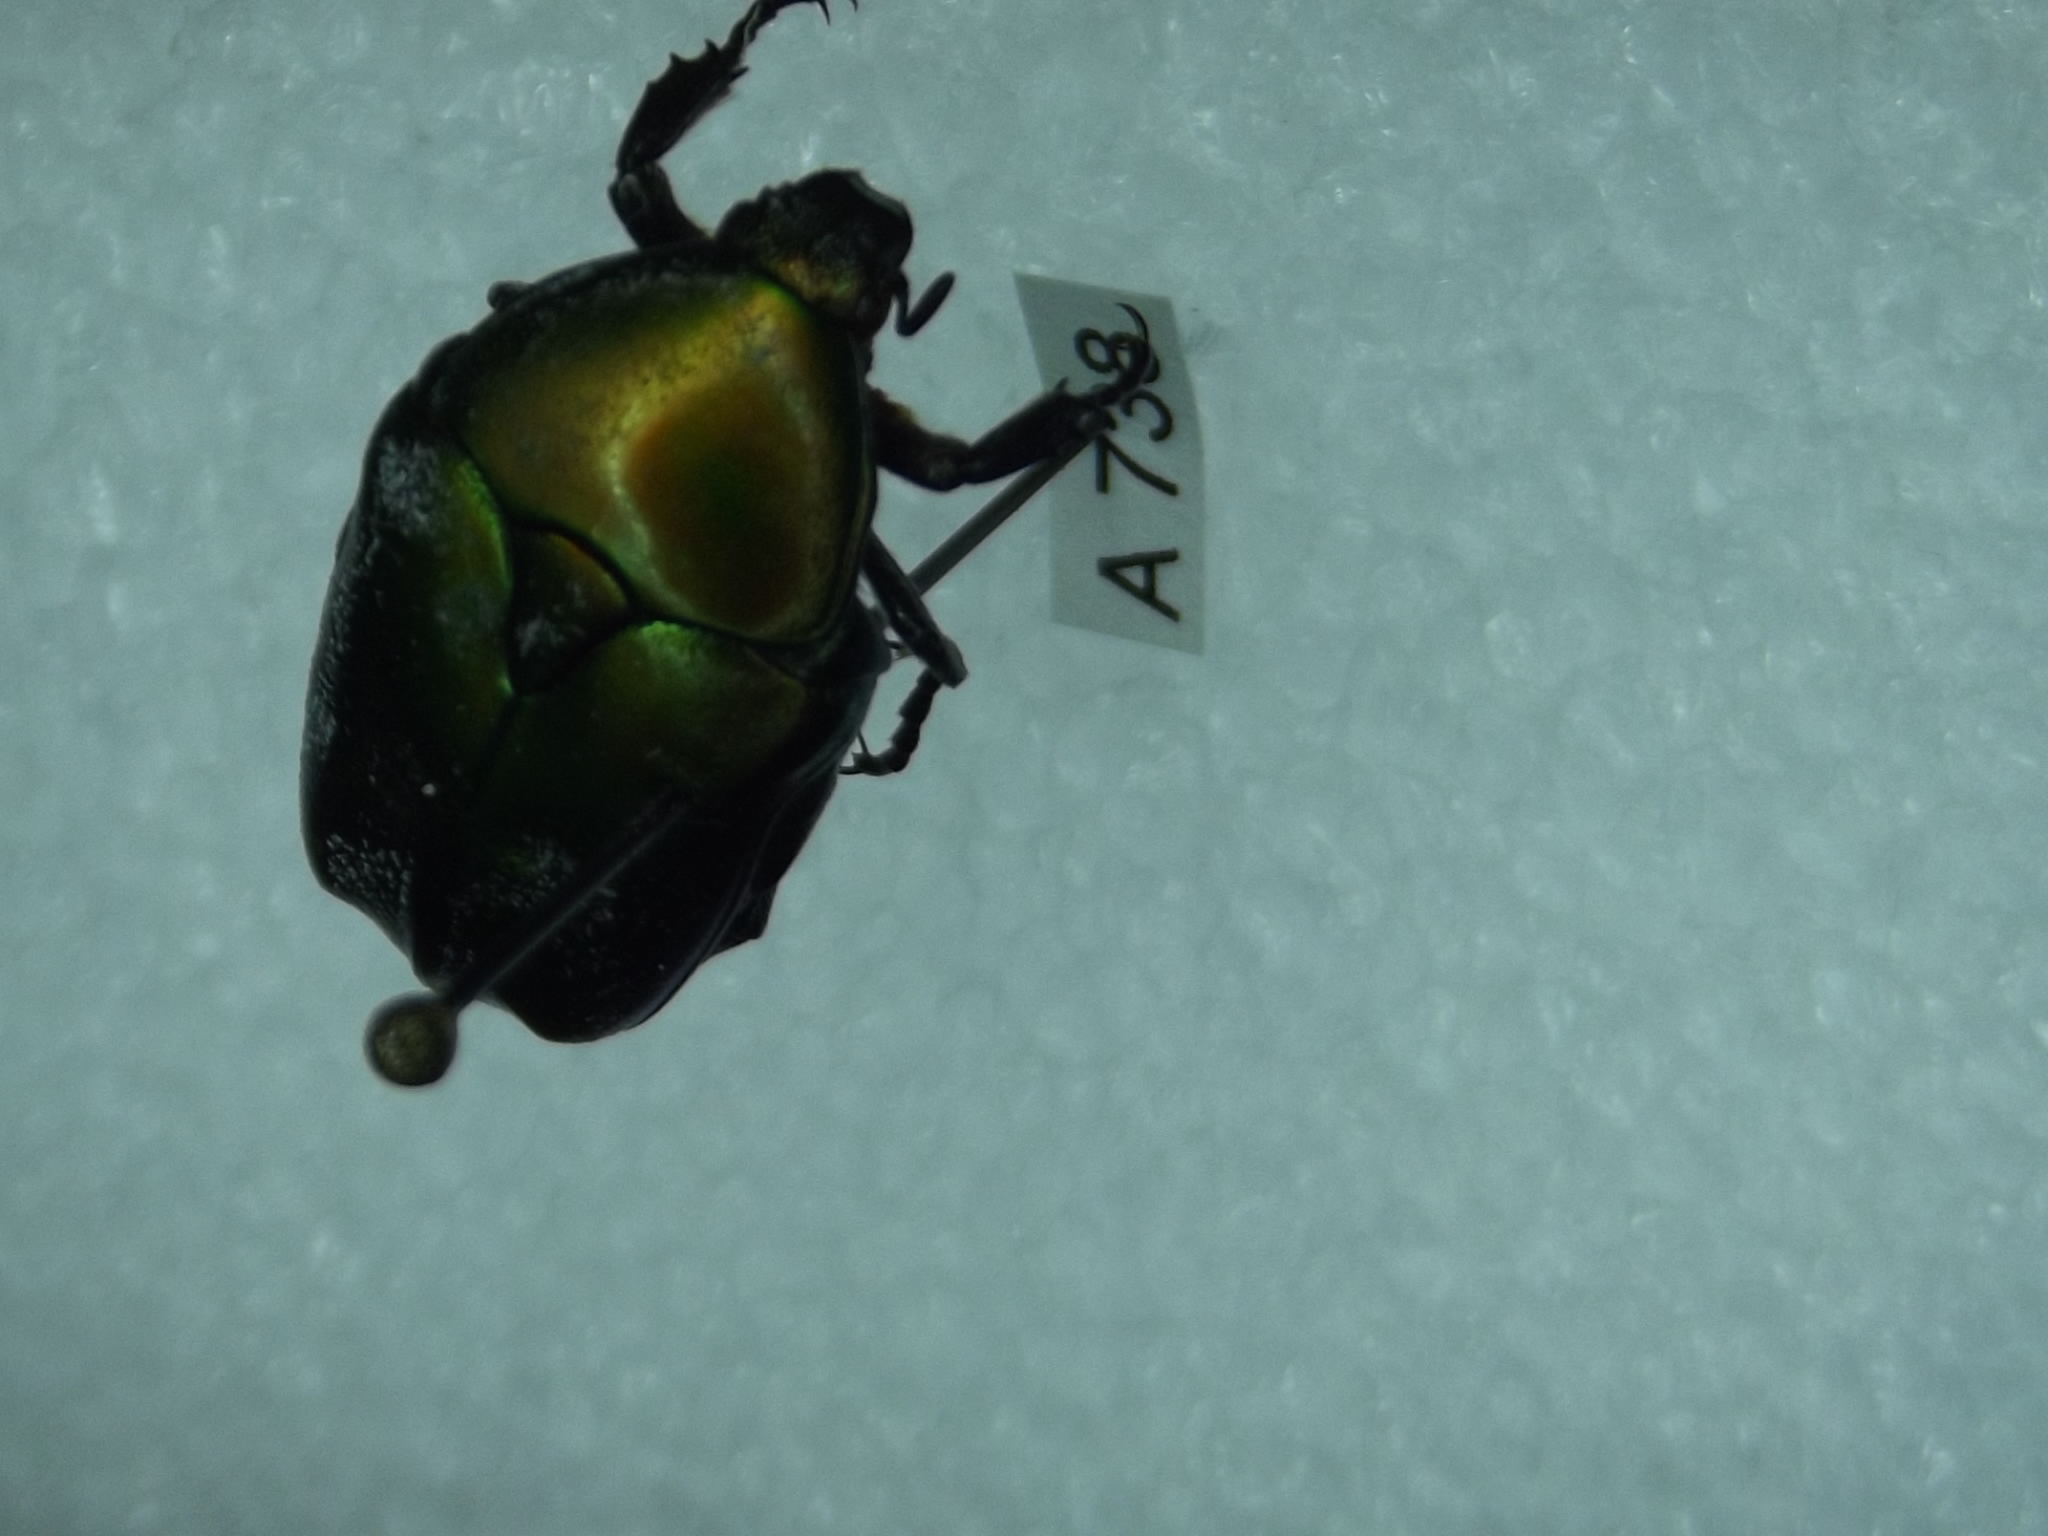Protaetia_cuprea_ignicollis: (281, 10, 1185, 1049)
